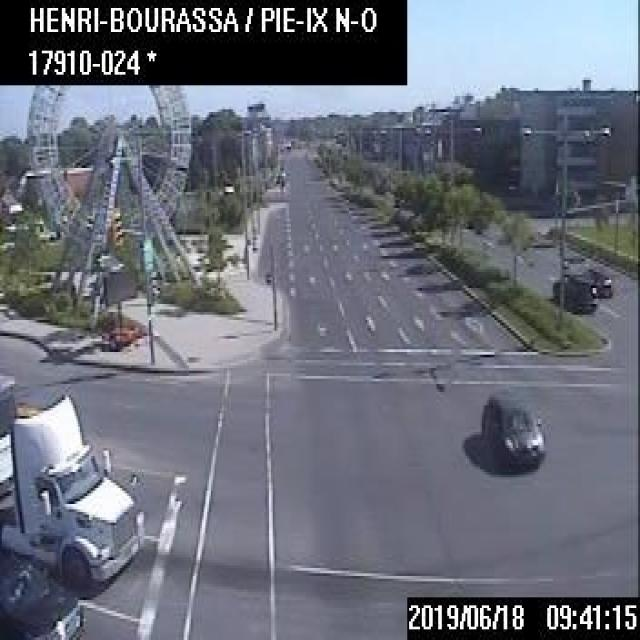vehicle: (0, 370, 142, 594), (0, 543, 85, 637), (478, 387, 546, 469), (551, 272, 594, 309), (584, 266, 611, 296)
